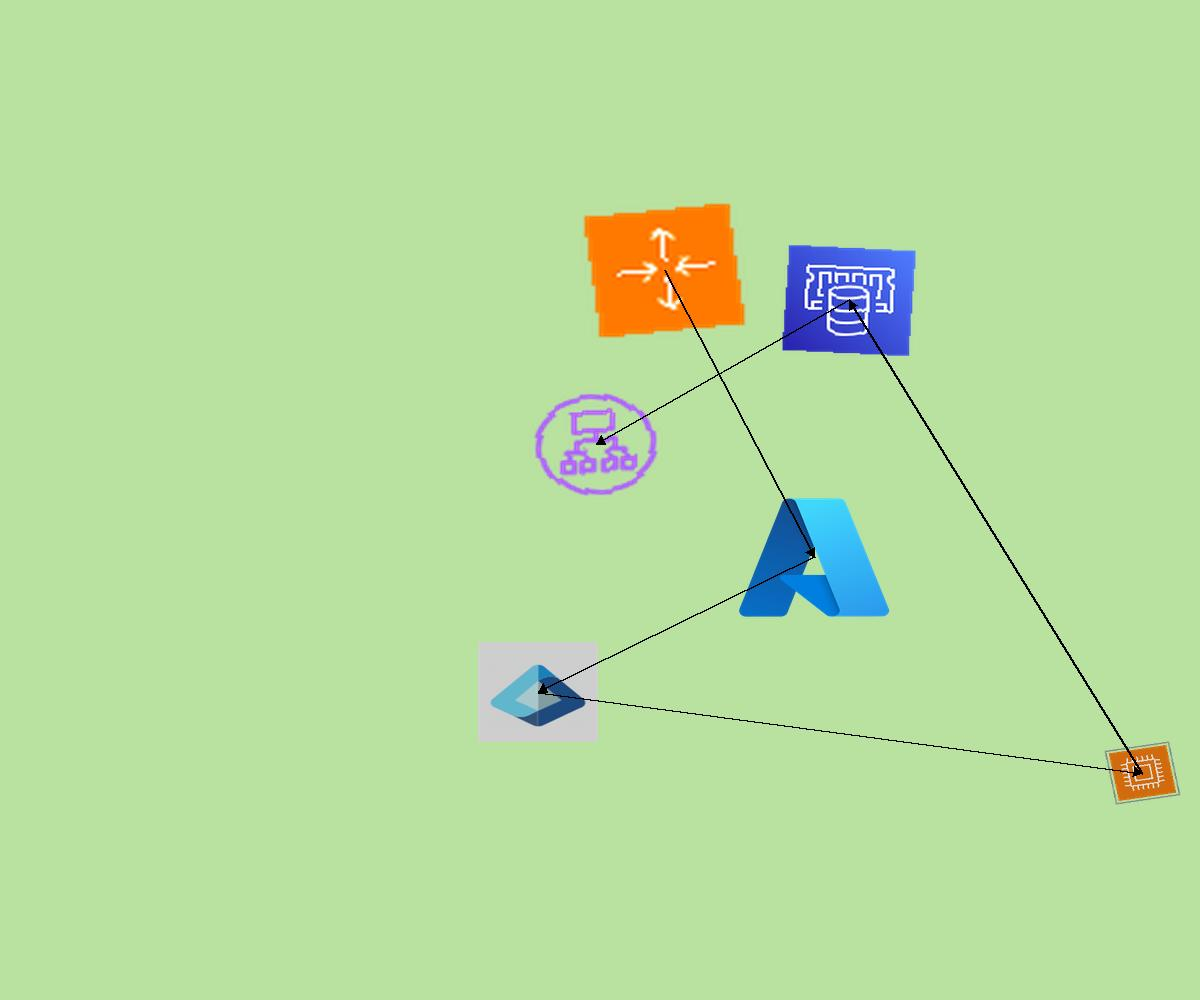AWS-Category_Compute: (1104, 741, 1181, 805)
AWS-ElastiCache: (781, 244, 917, 357)
AWS-Res_Elastic-Load-Balancing_Application-Load-Balancer: (522, 383, 670, 506)
AWS-Scaling-group: (581, 201, 748, 340)
Azure_microsoft_entra: (478, 642, 598, 742)
Azure_services: (732, 489, 896, 626)
